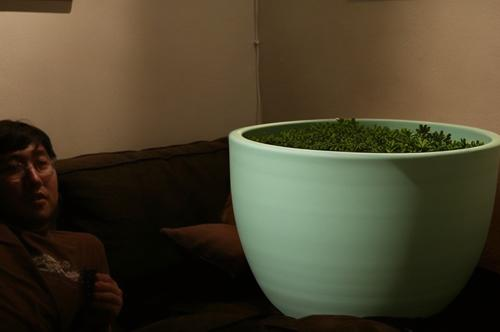person: (1, 119, 125, 332)
person/hand: (94, 272, 123, 324)
person/head: (2, 122, 57, 223)
pottedplant: (225, 118, 500, 319)
sofa: (1, 122, 500, 332)
